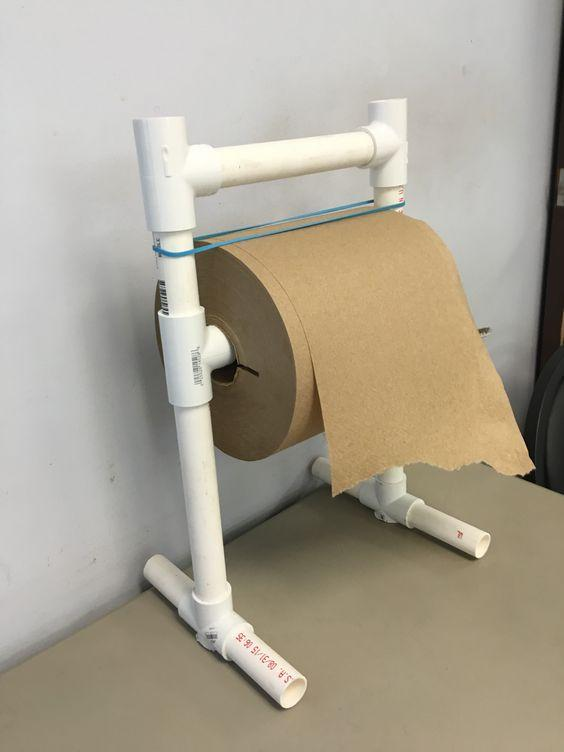PVC: (135, 99, 231, 629), (134, 95, 412, 199), (142, 549, 307, 715)
